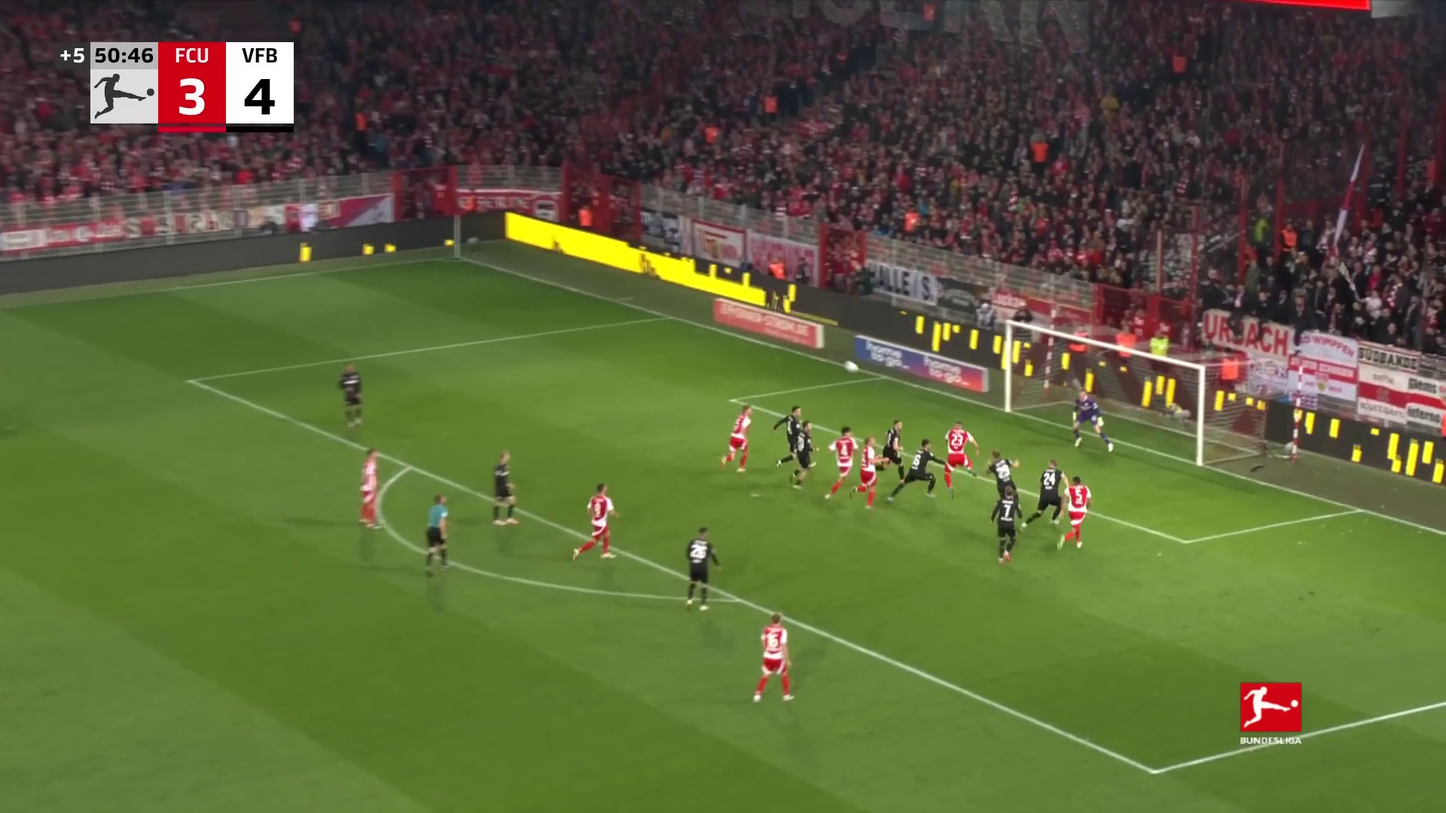ball: (844, 360, 858, 374)
player: (748, 612, 799, 706), (570, 482, 622, 563), (679, 525, 723, 612), (887, 439, 946, 502), (1021, 457, 1069, 531), (980, 450, 1026, 522), (1069, 384, 1116, 453), (989, 483, 1026, 566), (486, 449, 523, 529), (1057, 474, 1094, 552), (717, 403, 757, 474), (354, 447, 388, 530), (823, 425, 860, 501), (851, 436, 889, 509), (941, 421, 981, 490), (332, 361, 371, 431), (877, 417, 909, 487), (772, 404, 805, 470), (789, 421, 819, 489)
referee: (418, 493, 456, 576)
